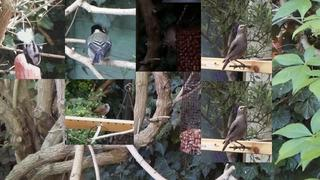dunnock: (88, 103, 110, 119)
great tit: (86, 24, 112, 66)
long tailed tit: (27, 24, 41, 66)
mouse: (163, 24, 177, 51)
starling: (222, 105, 248, 152), (222, 24, 248, 70)
